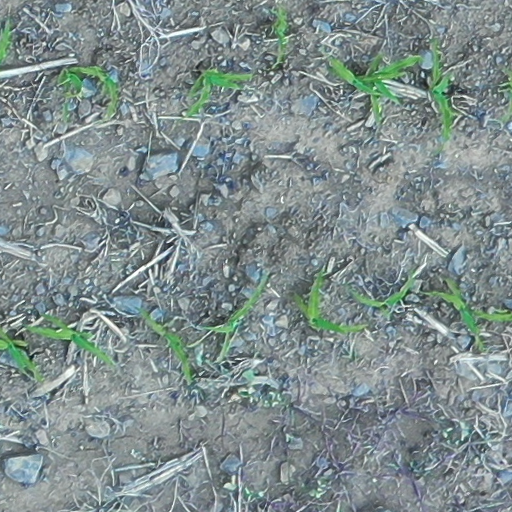planta: (198, 274, 270, 365), (289, 267, 370, 336), (23, 310, 116, 367), (135, 306, 199, 385), (418, 275, 486, 348), (182, 64, 258, 120), (324, 53, 411, 99), (59, 61, 122, 118), (425, 36, 457, 142), (348, 266, 418, 313), (369, 51, 429, 104), (360, 48, 388, 125)
